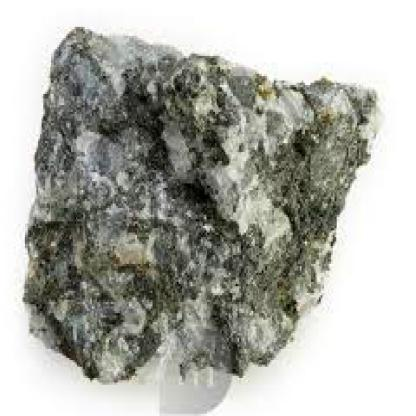Igneous_Diorite: (21, 18, 390, 402)
